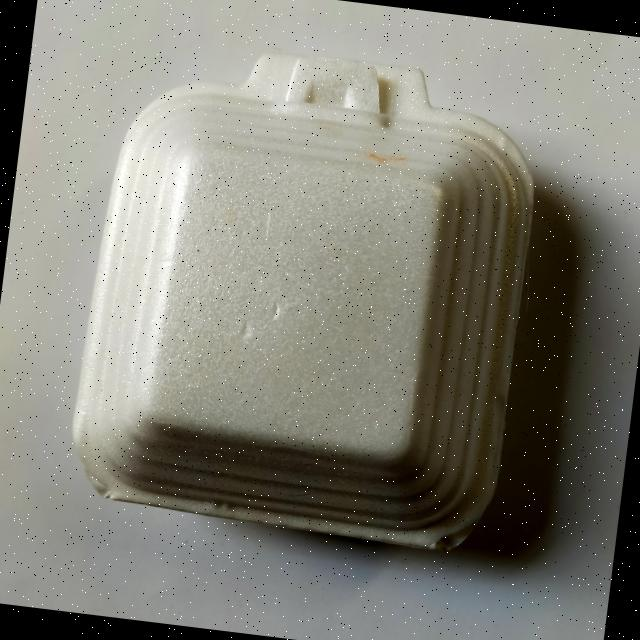styrofoam: (61, 29, 550, 558)
